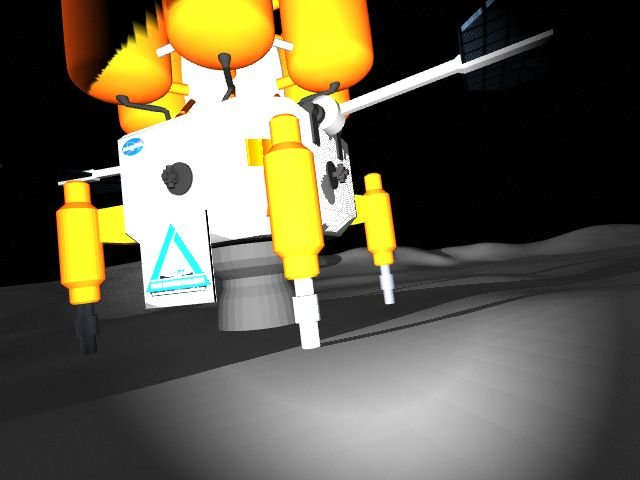basemarker: (147, 223, 212, 297)
